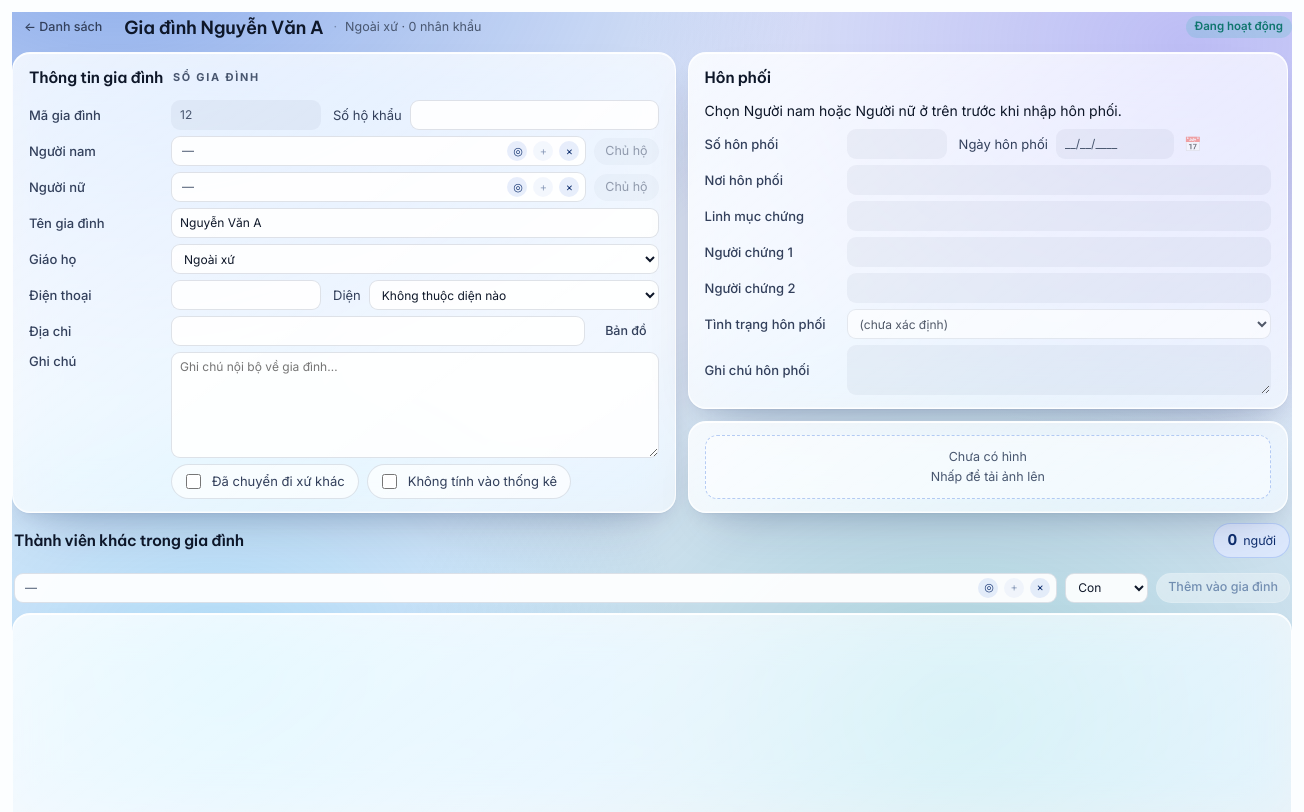
GiaDinhDetail › tick Da chuyen di xu khac thi hien Ngay chuyen va Noi chuyen
Expected: the field labelled "Ngày chuyển" is not shown
Click the checkbox labelled "Đã chuyển đi xứ khác" at (194, 482), box x1=186 y1=474 x2=201 y2=489
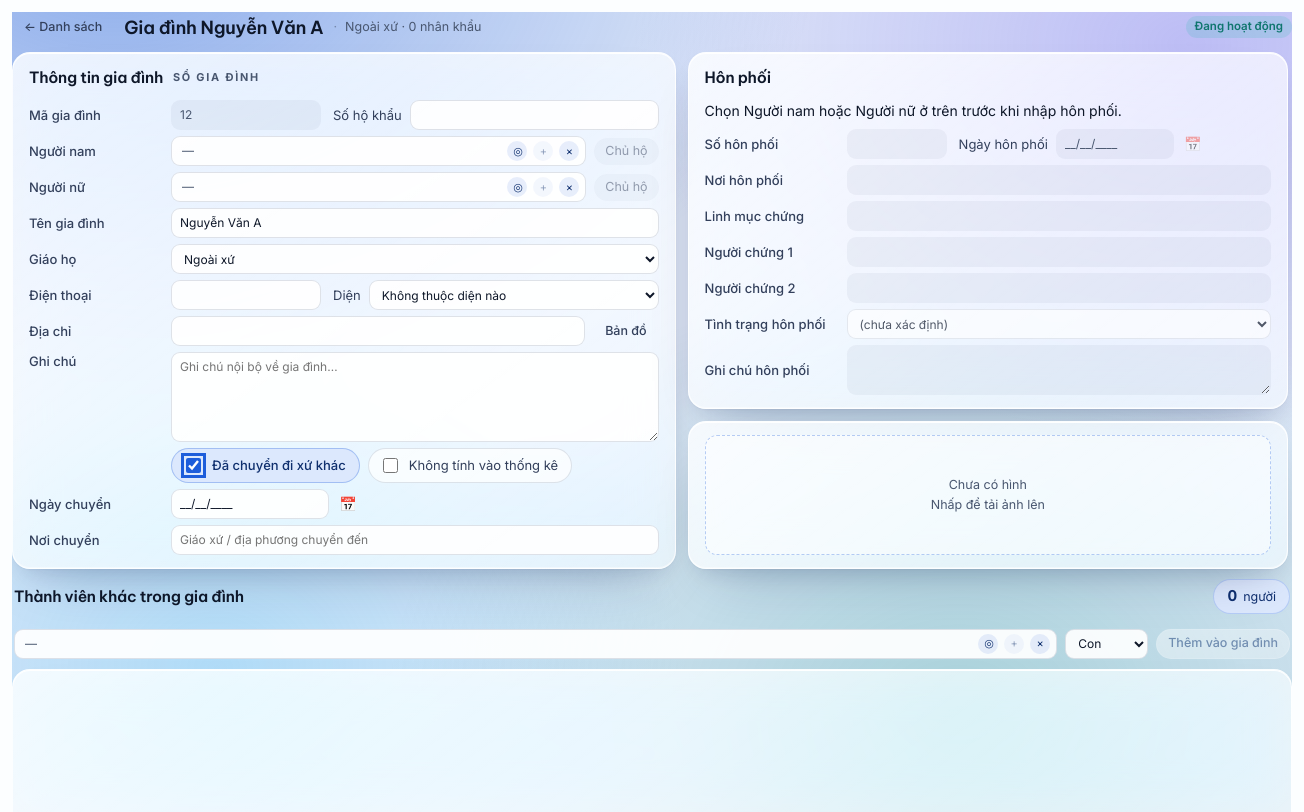
Expected: the field labelled "Ngày chuyển" is shown, x1=171 y1=489 x2=329 y2=519
Expected: the field labelled "Nơi chuyển" is shown, x1=171 y1=525 x2=659 y2=555
